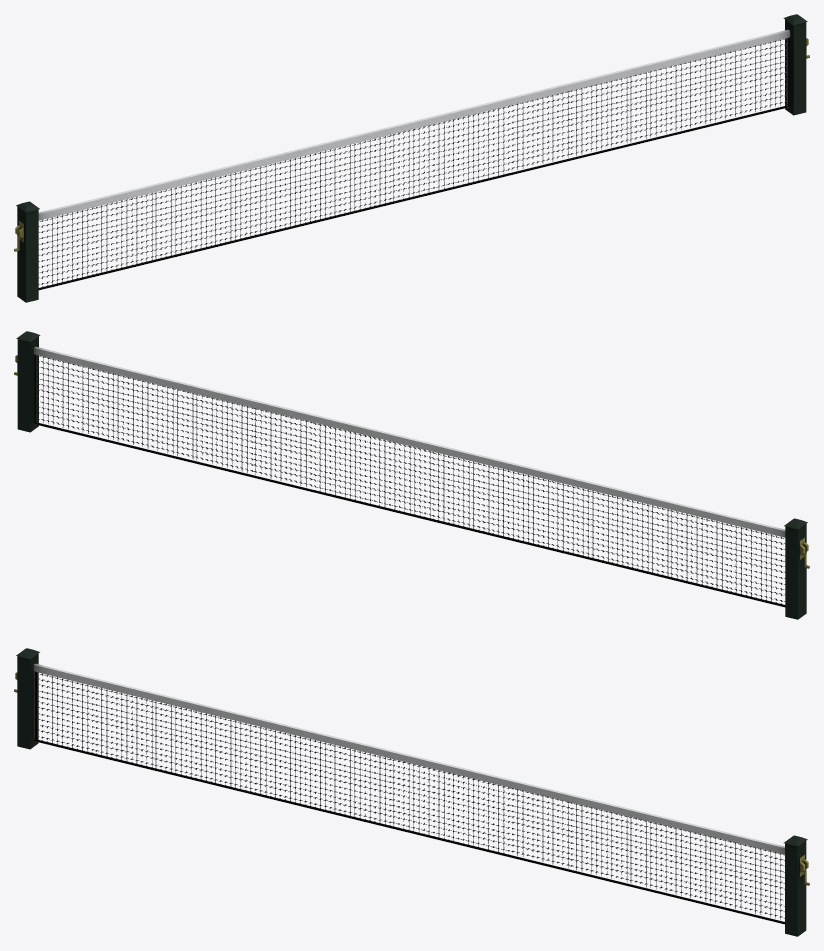
File: TennisNetPole.fbx
3 views of the same model, one above another, from view 1: azimuth 30°, elevation 25°; view 2: azimuth 150°, elevation 25°; view 3: azimuth 330°, elevation 25° (orthographic).
Parts seen in each view (by area): view 1: TennisNetPole; view 2: TennisNetPole; view 3: TennisNetPole.
Boxes of the visible parts, box(x1,y1,x2,y2) form: TennisNetPole: box(14, 14, 809, 302); TennisNetPole: box(14, 331, 809, 619); TennisNetPole: box(14, 648, 809, 936).
Bounding box in the file's own units: 0.1263 × 0.0143 × 0.0027.
